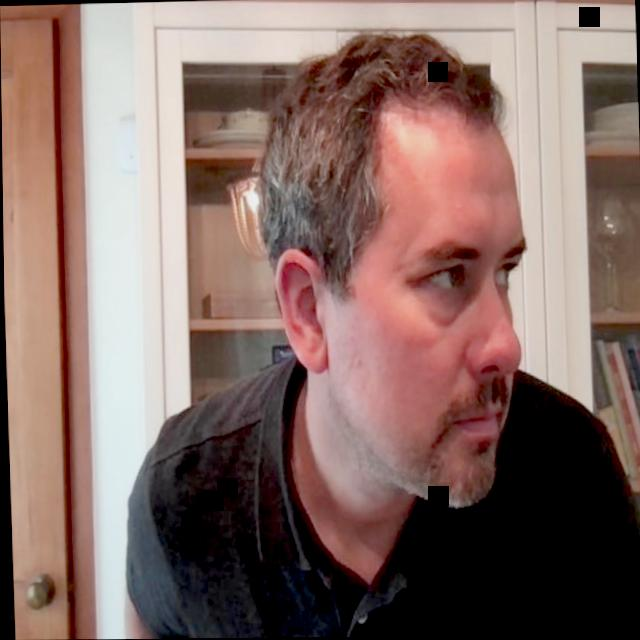NO-Mask: (253, 29, 540, 523)
